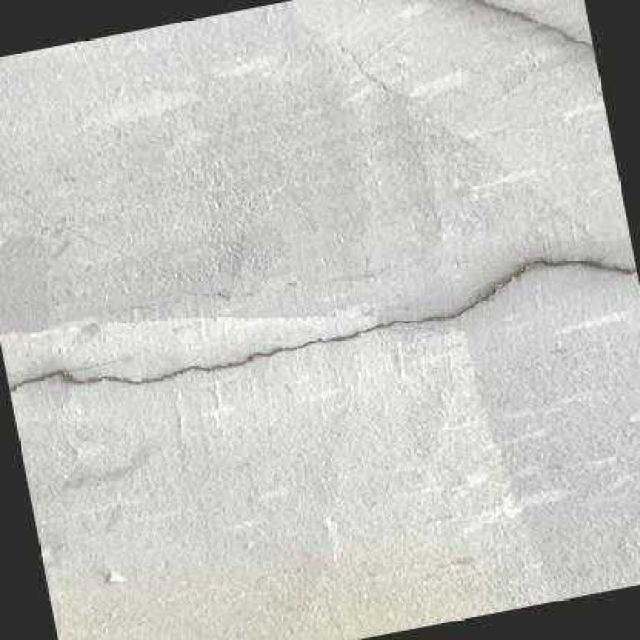D00: (6, 255, 636, 397)
